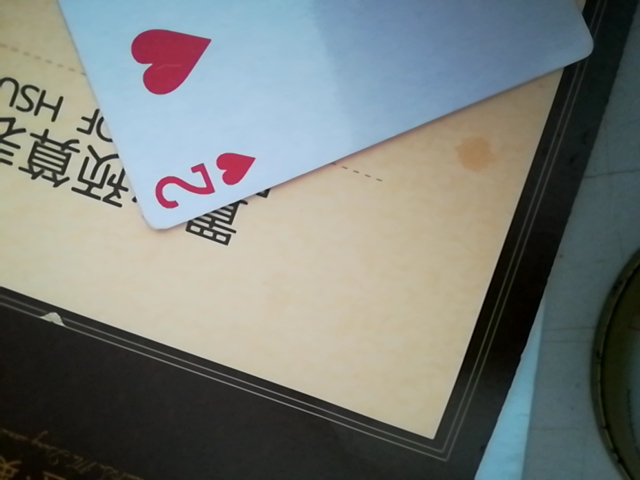hx 2: (40, 1, 607, 228)
